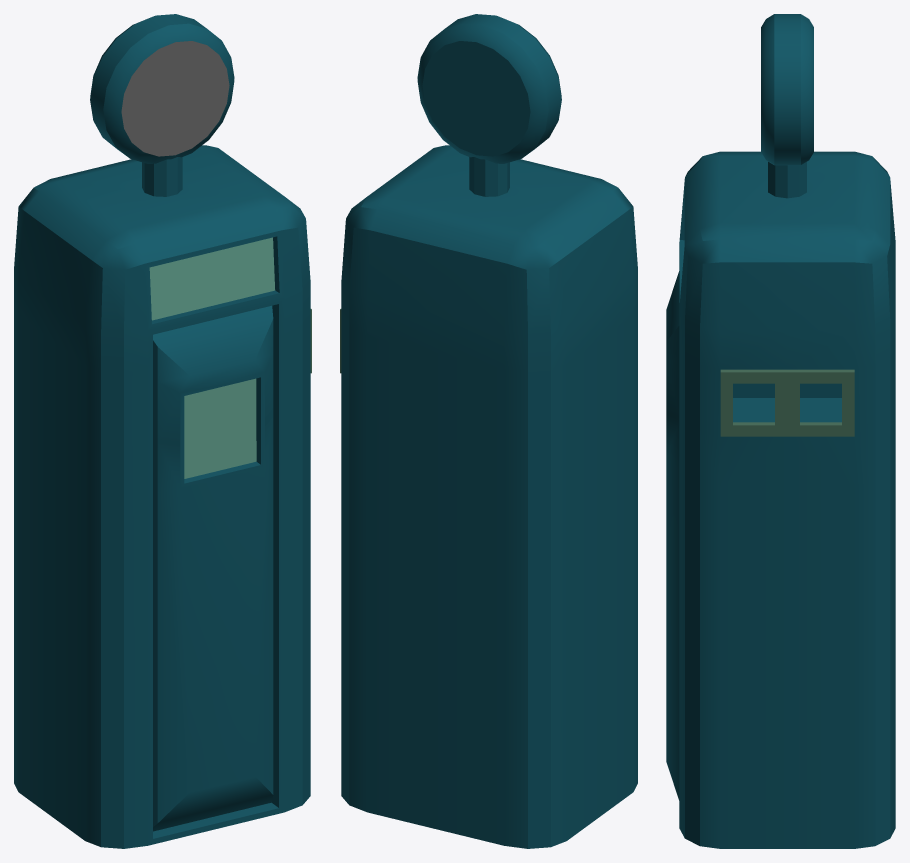
The model's file is GasPump.fbx.
3 renders of one model, left to right at view 1: azimuth 30°, elevation 25°; view 2: azimuth 150°, elevation 25°; view 3: azimuth 270°, elevation 25°, orthographic.
Parts seen in each view (by area): view 1: GasPump; view 2: GasPump; view 3: GasPump.
Boxes of the visible parts, x1=… form: GasPump: x1=14, y1=14, x2=311, y2=848; GasPump: x1=340, y1=14, x2=637, y2=848; GasPump: x1=666, y1=14, x2=895, y2=848.
Size of the model in its own units: 2.95 by 9.58 by 2.57.
